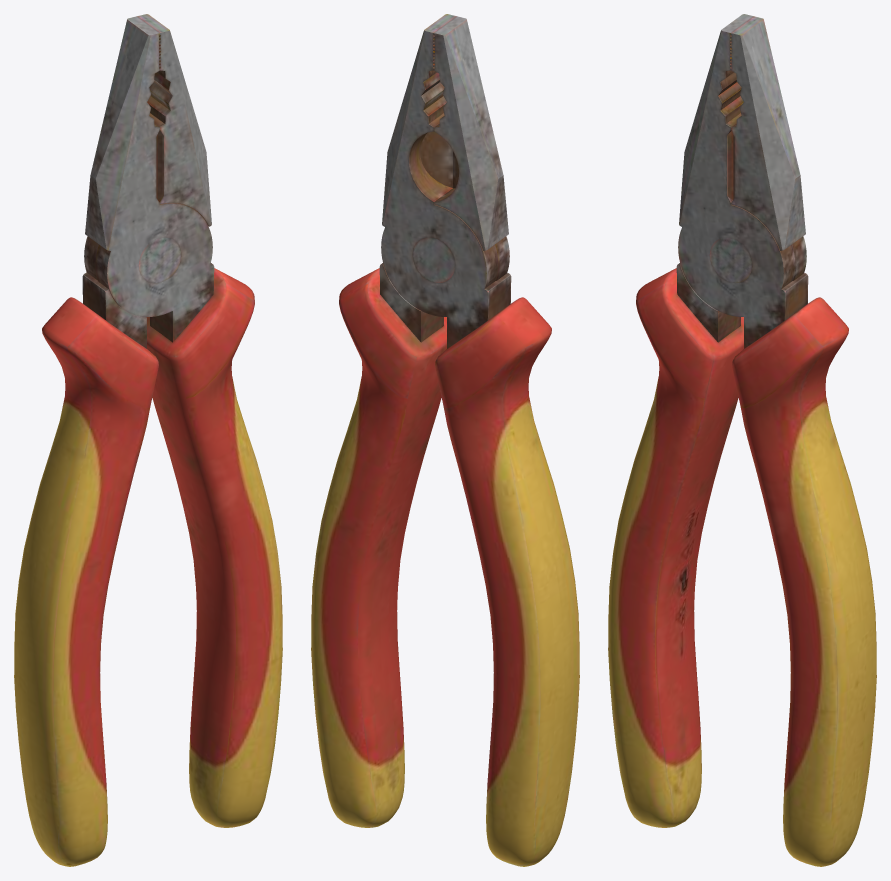
File: pliers.gltf
The picture shows the model from 3 angles, left to right: view 1: azimuth 30°, elevation 25°; view 2: azimuth 150°, elevation 25°; view 3: azimuth 330°, elevation 25°; orthographic projection.
Visible parts, largest first — view 1: pliers_b, pliers_a, pliers_pin; view 2: pliers_a, pliers_b, pliers_pin; view 3: pliers_b, pliers_a, pliers_pin.
Boxes of the visible parts, box(x1,y1,x2,y2) form: pliers_b: box(85, 16, 282, 827); pliers_a: box(14, 14, 211, 866); pliers_pin: box(138, 237, 181, 282); pliers_a: box(381, 14, 579, 866); pliers_b: box(311, 16, 509, 827); pliers_pin: box(412, 237, 455, 282); pliers_b: box(678, 14, 876, 866); pliers_a: box(608, 16, 806, 827); pliers_pin: box(709, 237, 752, 282).
Size of the model in its own units: 0.0553 by 0.1798 by 0.018.
